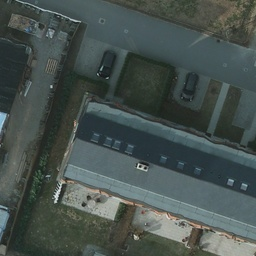car: (180, 69, 198, 103), (97, 50, 116, 79)
